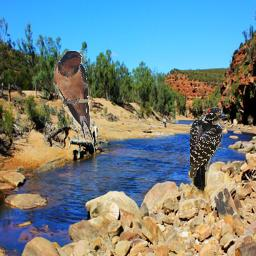Swallow: (53, 50, 93, 141)
Woodpecker: (190, 106, 227, 193)
